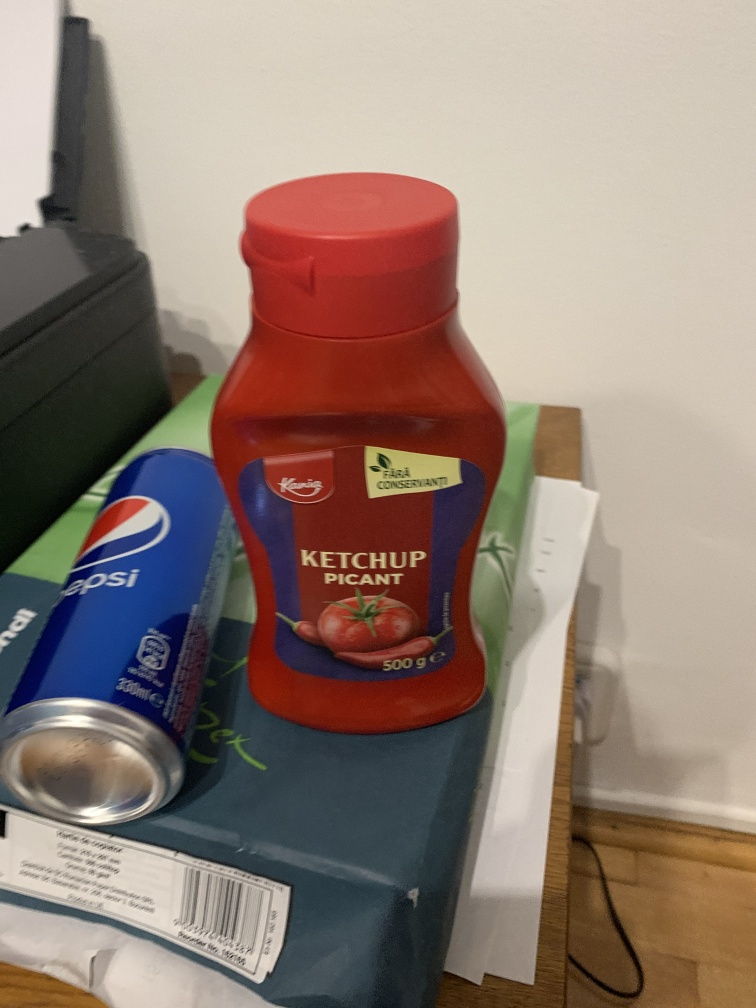ketchup: (210, 170, 510, 761)
pepsi: (2, 446, 236, 856)
